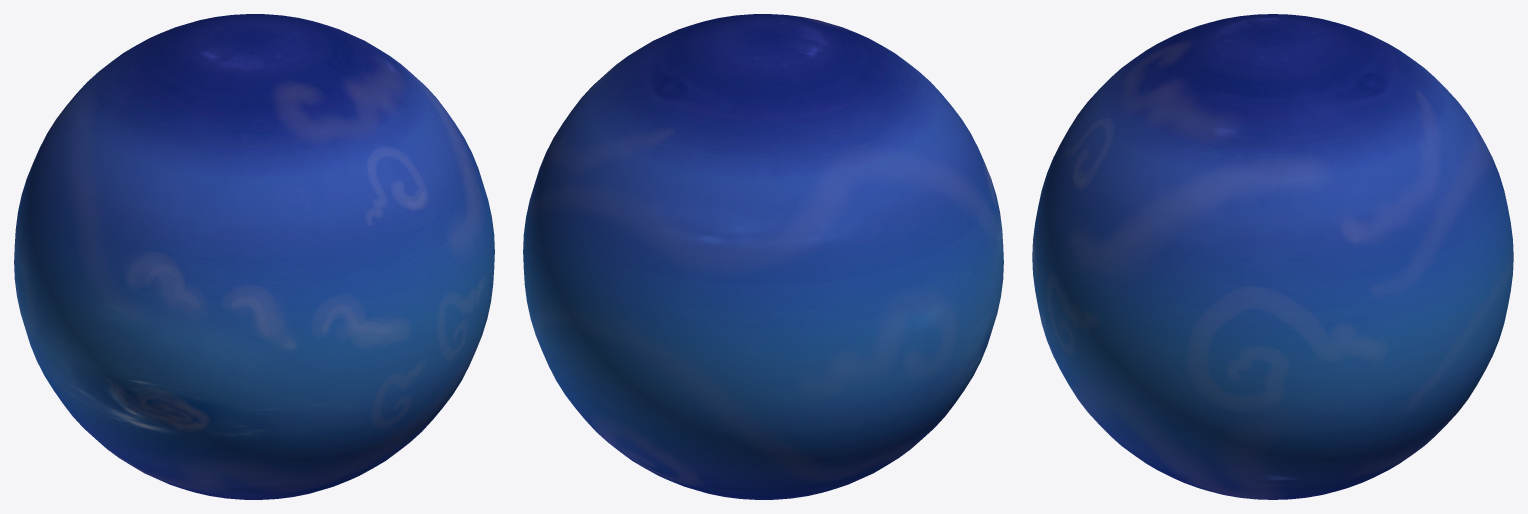
The model's file is neptune.glb.
3 views of the same model, side by side, from view 1: azimuth 30°, elevation 25°; view 2: azimuth 150°, elevation 25°; view 3: azimuth 270°, elevation 25° (orthographic).
Visible parts, largest first — view 1: Object_2; view 2: Object_2; view 3: Object_2.
Part boxes in pixels (x1=…): Object_2: x1=14, y1=14, x2=494, y2=499; Object_2: x1=523, y1=14, x2=1003, y2=499; Object_2: x1=1032, y1=14, x2=1513, y2=499.
Size of the model in its own units: 2.43 by 2.46 by 2.43.
Materials: 1 (1 with a texture image).
